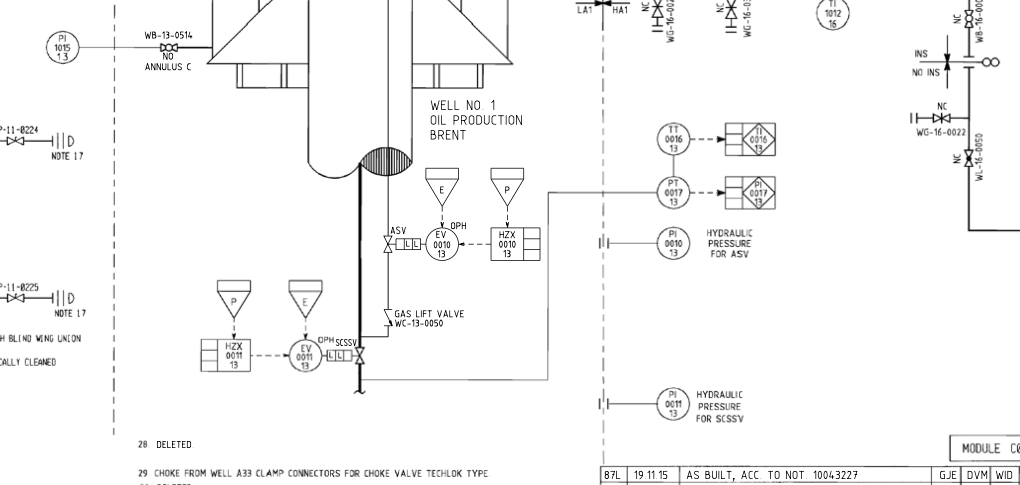Instrument: (652, 380, 694, 423), (654, 170, 693, 212), (424, 223, 461, 263), (656, 118, 692, 158), (657, 222, 691, 264), (287, 337, 325, 374), (43, 30, 81, 65), (813, 1, 853, 34)
Instrument-square: (730, 118, 778, 161), (739, 172, 780, 212), (214, 335, 254, 376), (489, 223, 527, 264)
